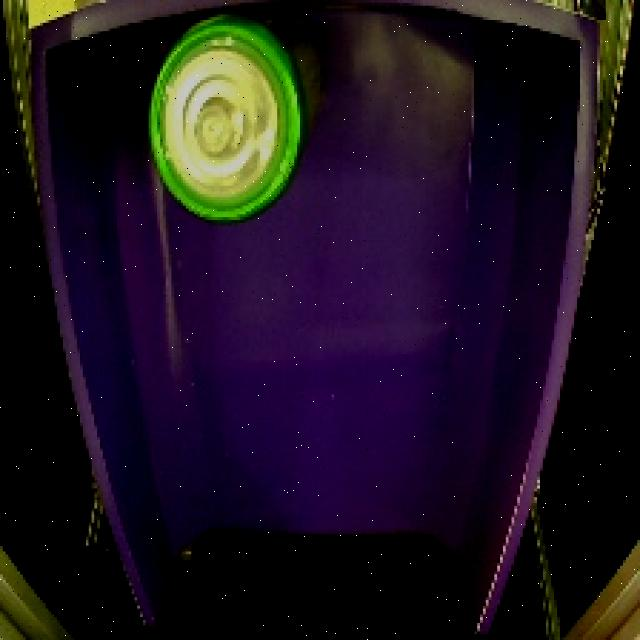battery: (139, 1, 327, 227)
